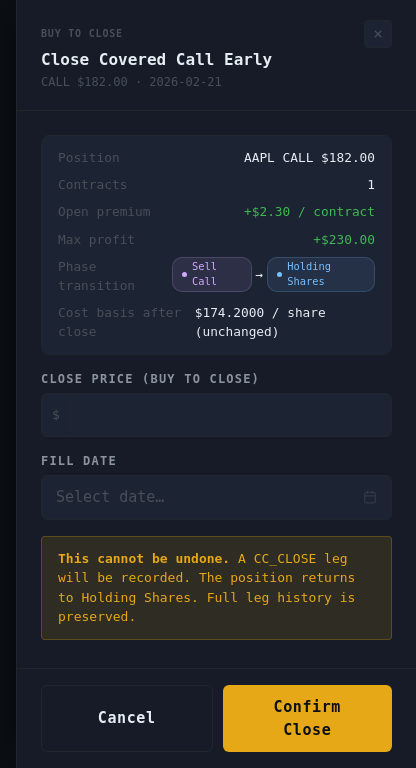
Scenario: shows inline error "Close price must be greater than zero" when submitted with empty price
The image size is (416, 768).
What coordinates should you click on to do the following:
click the button "Confirm Close"
I would click on:
 (307, 718)
Its box is left=222, top=685, right=392, bottom=752.
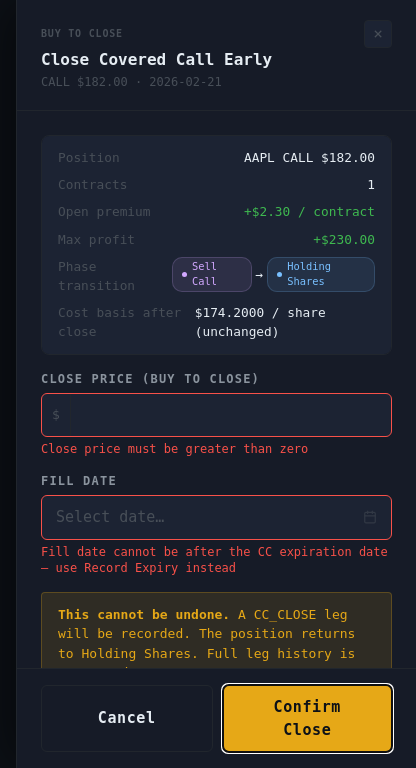
Expected: the text "Close price must be greater than zero" is shown, left=41, top=442, right=308, bottom=456
